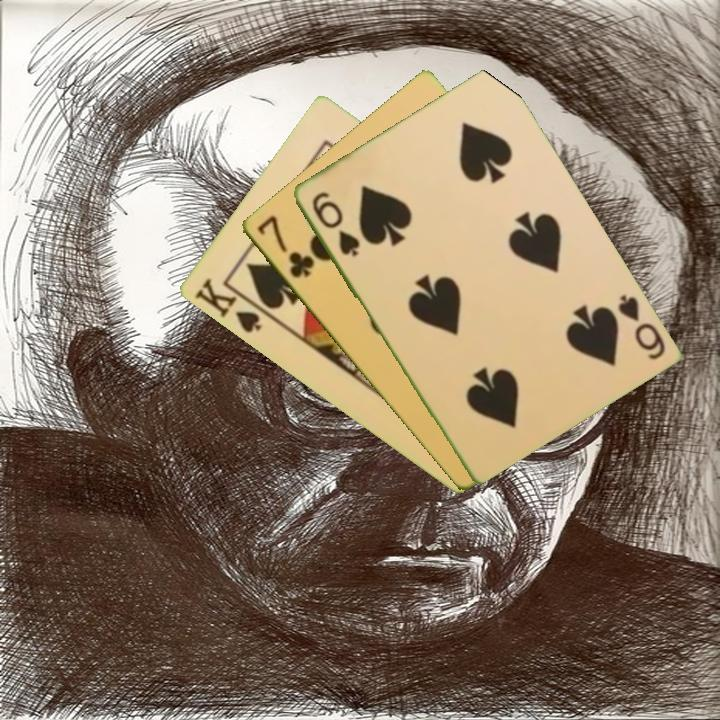6s: (613, 290, 668, 363), (307, 188, 363, 259)
7c: (253, 211, 317, 281)
Ks: (190, 274, 264, 336)
